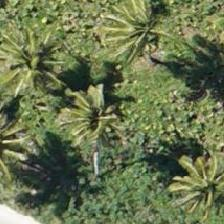coconut_tree: (47, 80, 137, 170), (98, 0, 188, 81), (0, 12, 70, 102), (160, 138, 223, 223)
